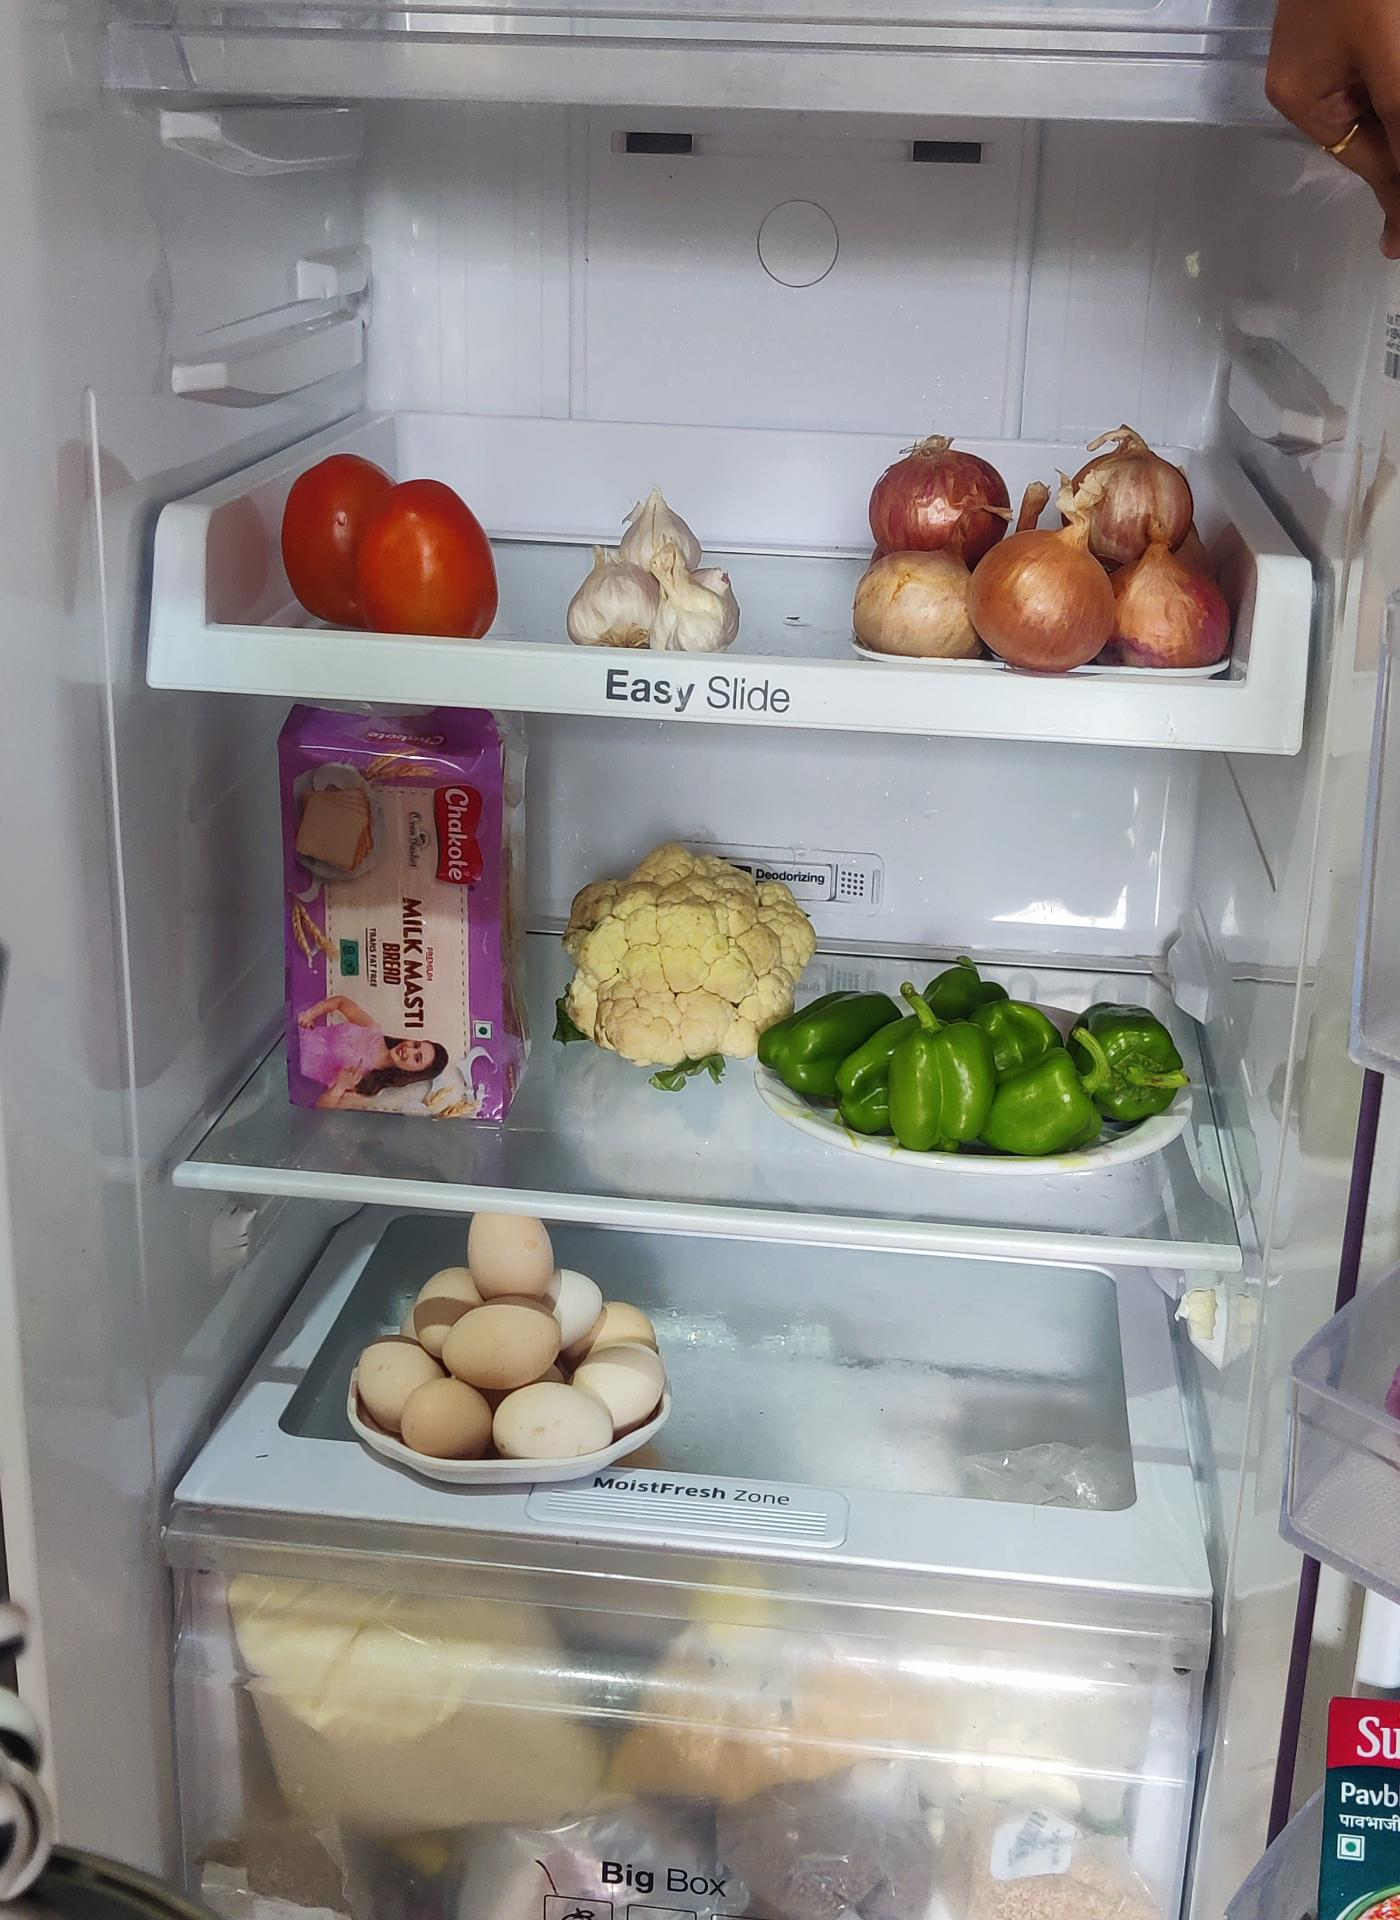bread: (277, 712, 525, 1127)
capsicum: (753, 971, 1197, 1166)
cauliflower: (552, 836, 814, 1070)
egg: (347, 1197, 671, 1492)
garlic: (576, 501, 734, 650)
onion: (846, 427, 1228, 663)
tomato: (277, 453, 497, 637)
